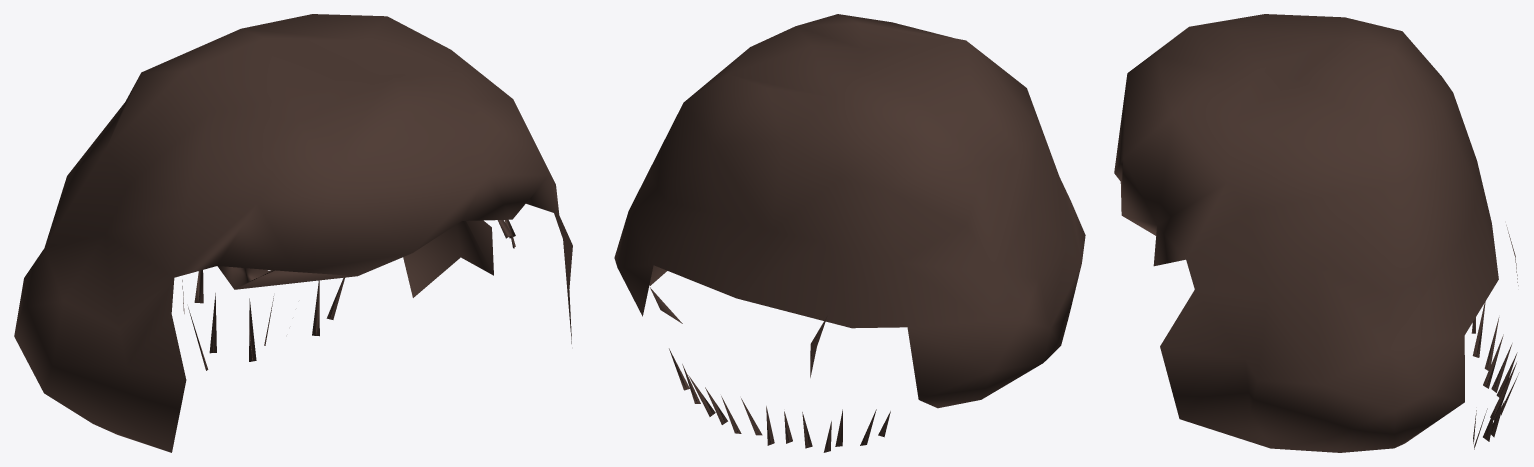
File: blunt-bob.glb
3 renders of one model, left to right at view 1: azimuth 30°, elevation 25°; view 2: azimuth 150°, elevation 25°; view 3: azimuth 270°, elevation 25°, orthographic. The views are drawn at different scales.
Parts seen in each view (by area): view 1: Hair, HairPulledRootStrands; view 2: Hair, HairPulledRootStrands; view 3: Hair, HairPulledRootStrands.
Boxes of the visible parts, x1,y1,x2,y2 form: Hair: [14, 14, 572, 452]; HairPulledRootStrands: [182, 220, 515, 370]; Hair: [614, 14, 1085, 408]; HairPulledRootStrands: [669, 315, 890, 452]; Hair: [1114, 14, 1498, 452]; HairPulledRootStrands: [1471, 225, 1519, 449].
Bounding box in the file's own units: 0.5525 × 0.4311 × 0.427.
